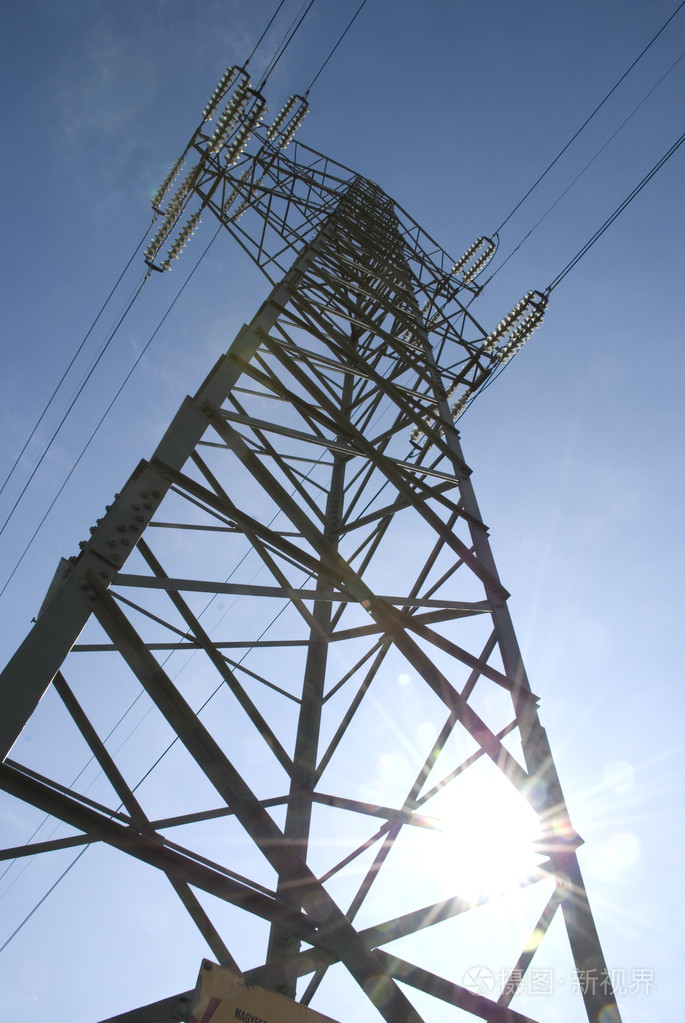insulator: (485, 289, 544, 360), (211, 92, 260, 161), (144, 205, 202, 263), (149, 151, 196, 211), (265, 93, 312, 147), (452, 233, 495, 279), (201, 66, 233, 123)
